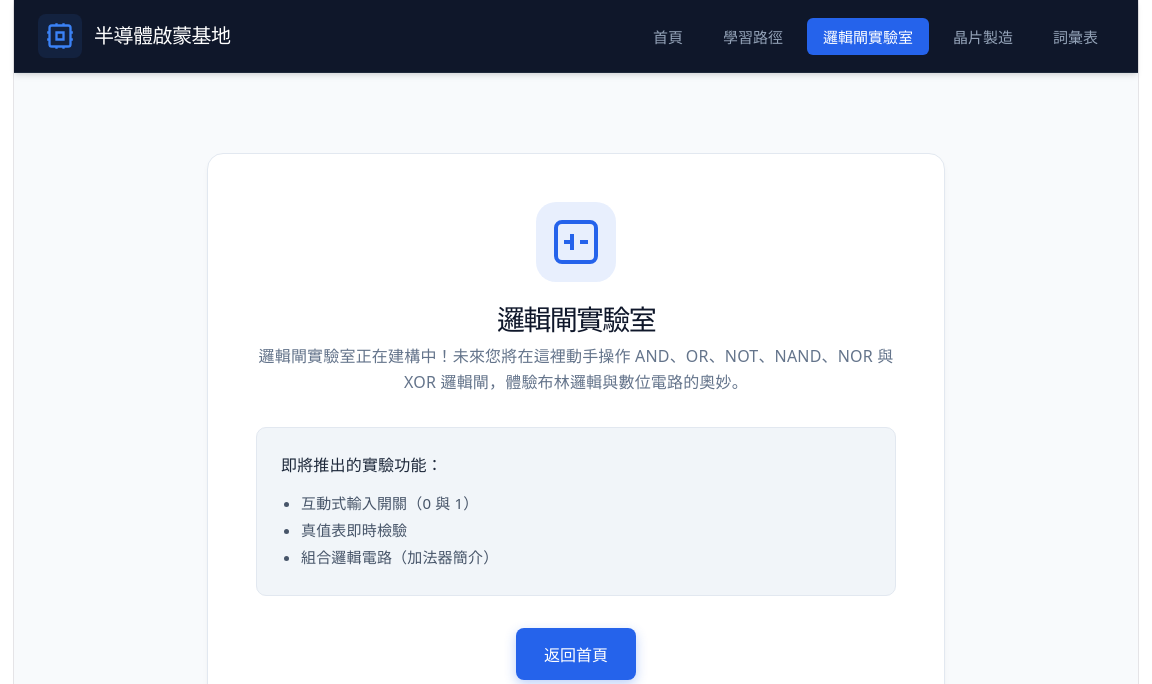
Test case: Introduce Semiconductor Website M1 › navigates to manufacturing page
The image size is (1152, 684).
Click the button "晶片製造".
click(983, 36)  # box top-left (937, 18), bottom-right (1029, 54)
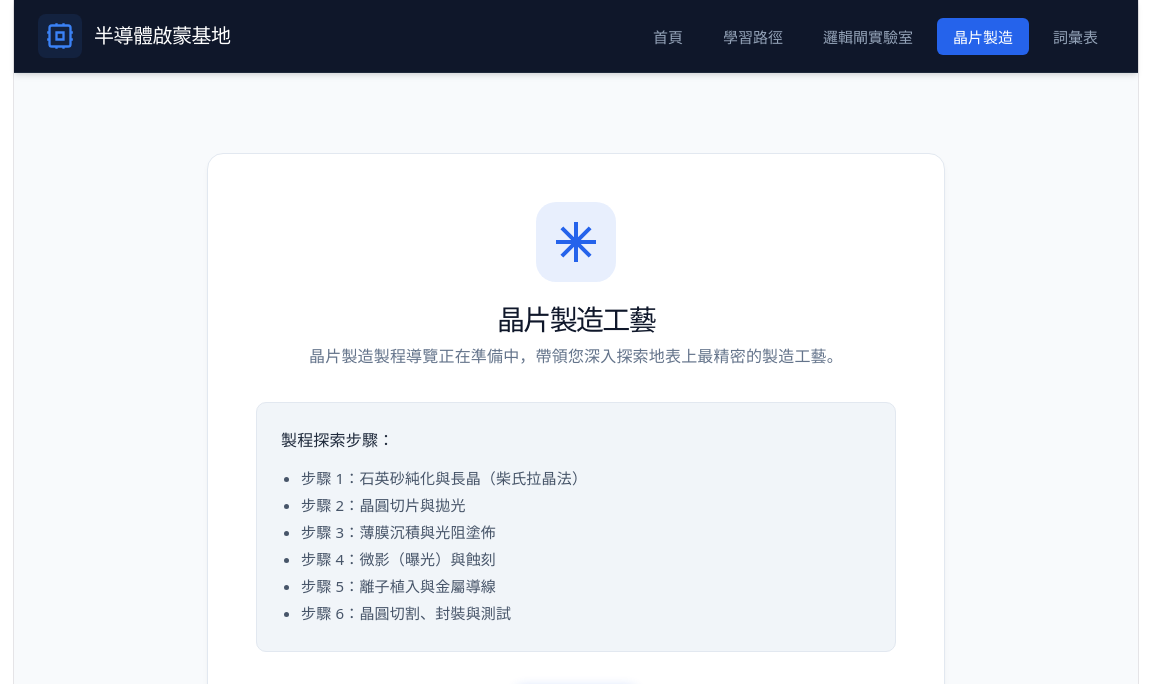
Expected: the heading "晶片製造工藝" is shown, top-left (497, 300), bottom-right (655, 338)
